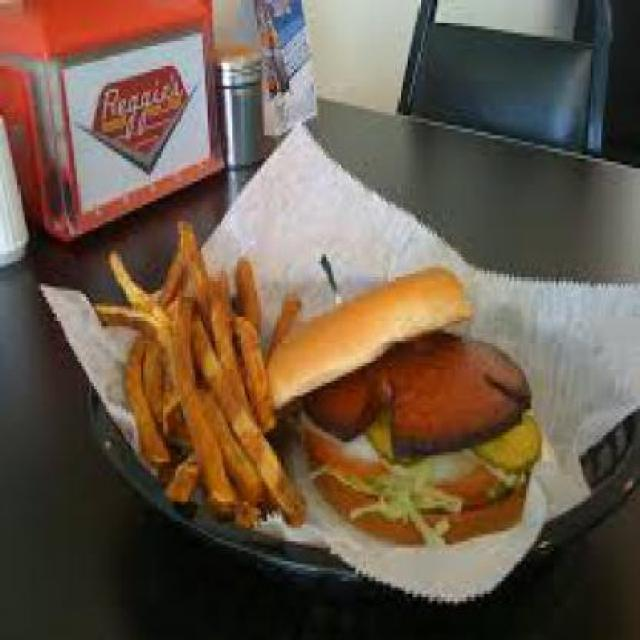french fries: (91, 210, 304, 542)
hamburger: (274, 270, 544, 552)
